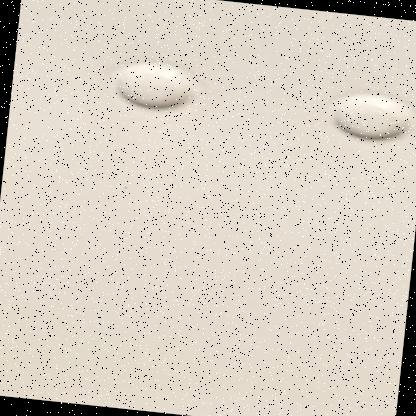Nocrack: (19, 10, 404, 412)
